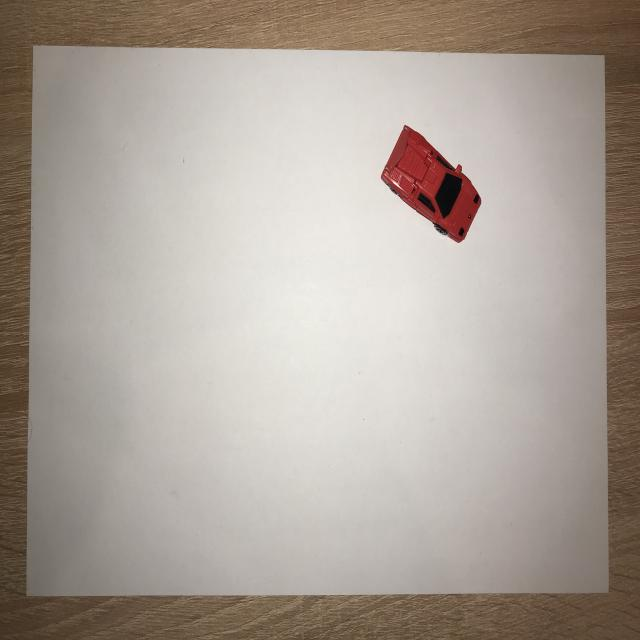car: (375, 114, 485, 246)
